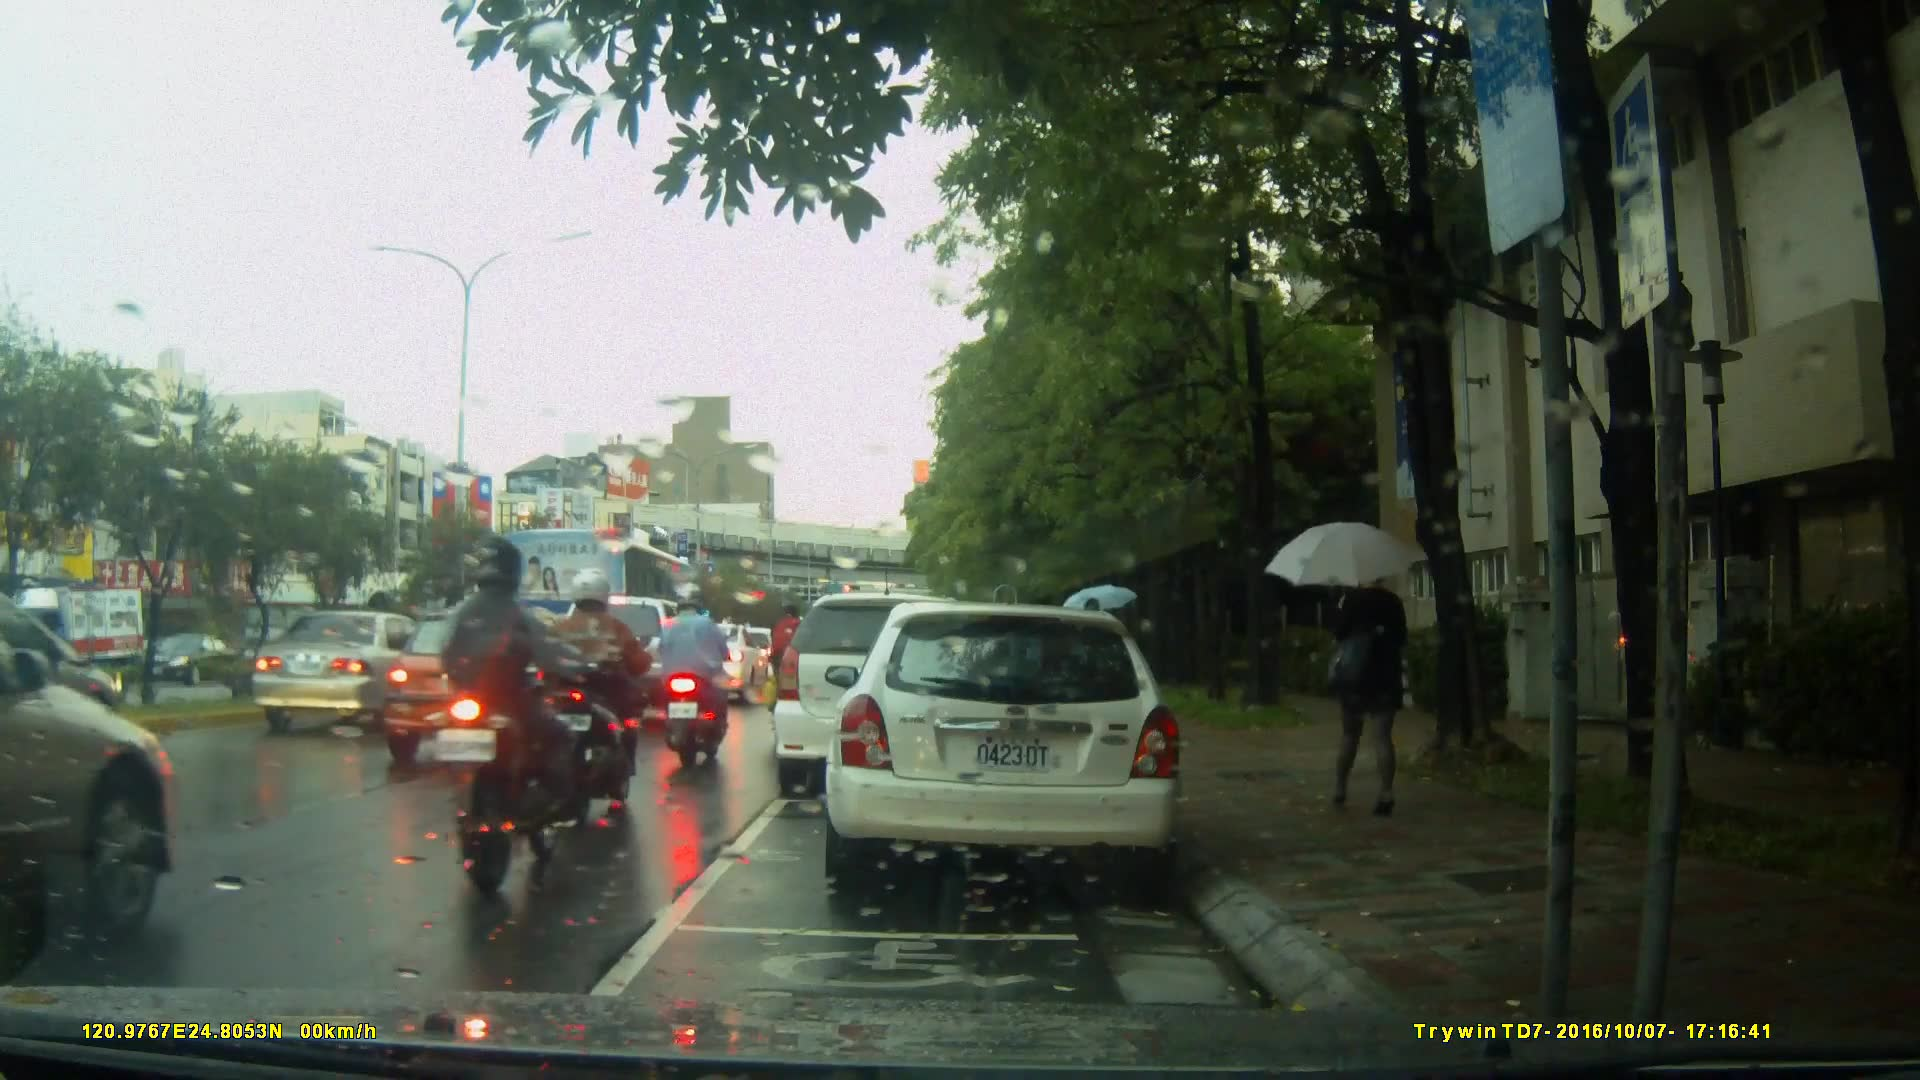pedestrian: (1290, 543, 1416, 818), (1083, 593, 1106, 730)
rider: (415, 540, 579, 887), (539, 565, 658, 814), (651, 578, 736, 771), (771, 598, 820, 732)
vehicle: (835, 594, 1194, 898), (1, 583, 174, 980), (776, 590, 1026, 784), (373, 605, 618, 771), (503, 526, 710, 669), (249, 609, 462, 736), (1, 586, 157, 697)
